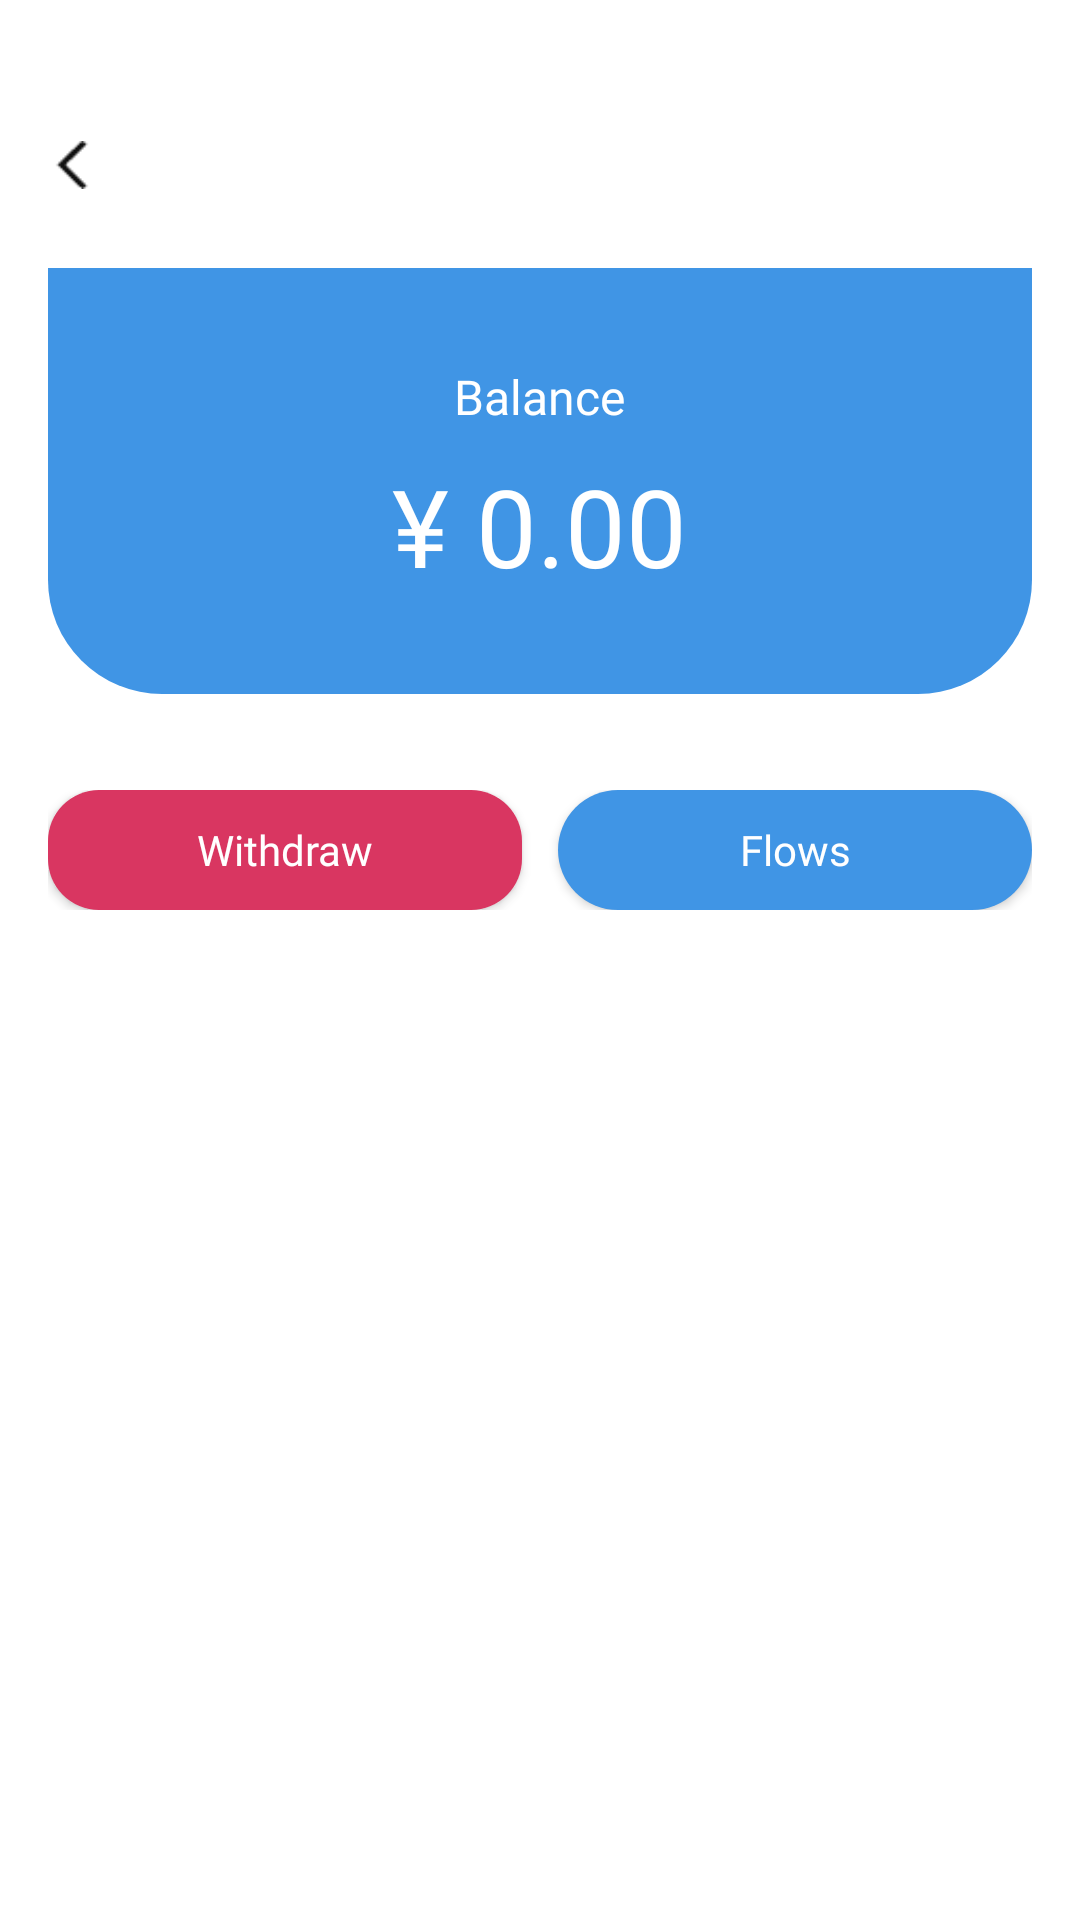

Named icons in this screenshot (1080w x 1920h) and their bounding boxes, (x1, y1, x2, y2):
back: (56, 141, 88, 189)
